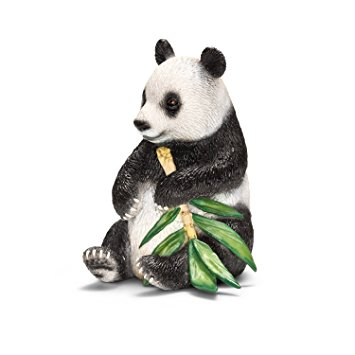panda: (81, 27, 267, 304)
